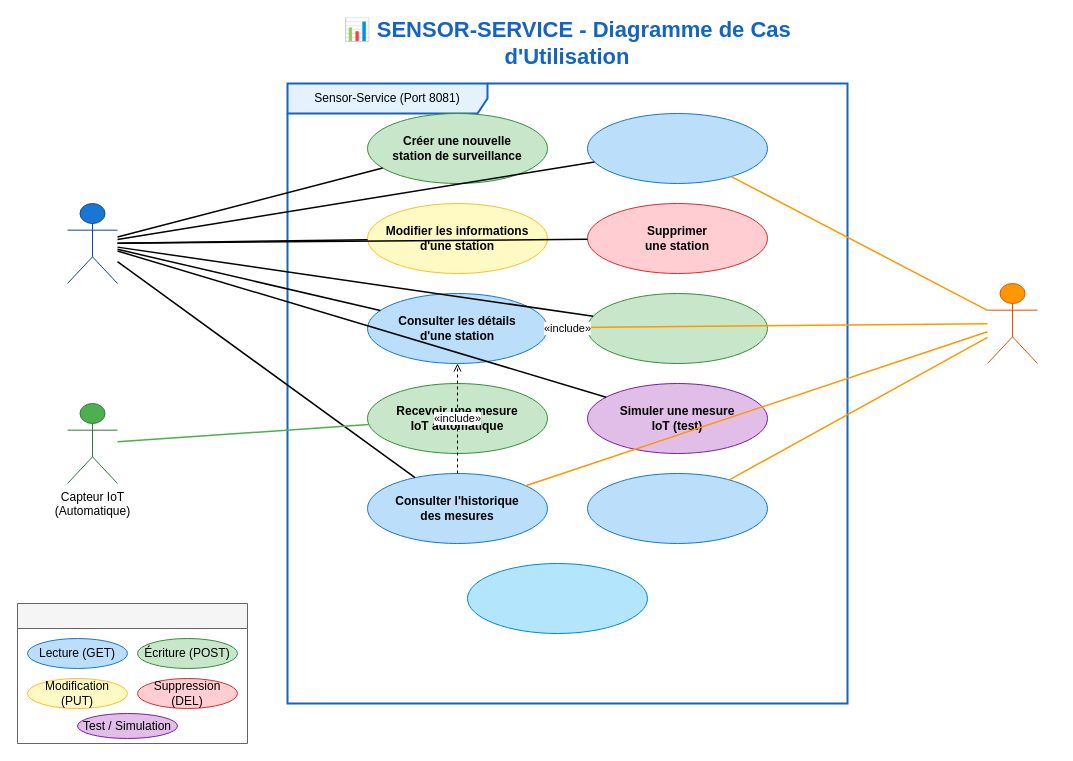
The diagram is 1073 pixels wide and 761 high, and some of its shapes have lost their labels. The shapes that lost their labels are listed below. From the top down, each one's box as (x1, y1, x2, y2) in pixels, then its label:
(586, 112, 768, 184): Consulter la liste des stations
(66, 202, 118, 284): Administrateur / Opérateur
(586, 292, 768, 364): Enregistrer une mesure manuellement
(986, 282, 1038, 364): Autres Services (STModel, Map)
(586, 472, 768, 544): Récupérer la dernière mesure
(466, 562, 648, 634): Filtrer stations par type / commune
(16, 602, 248, 744): Légende
